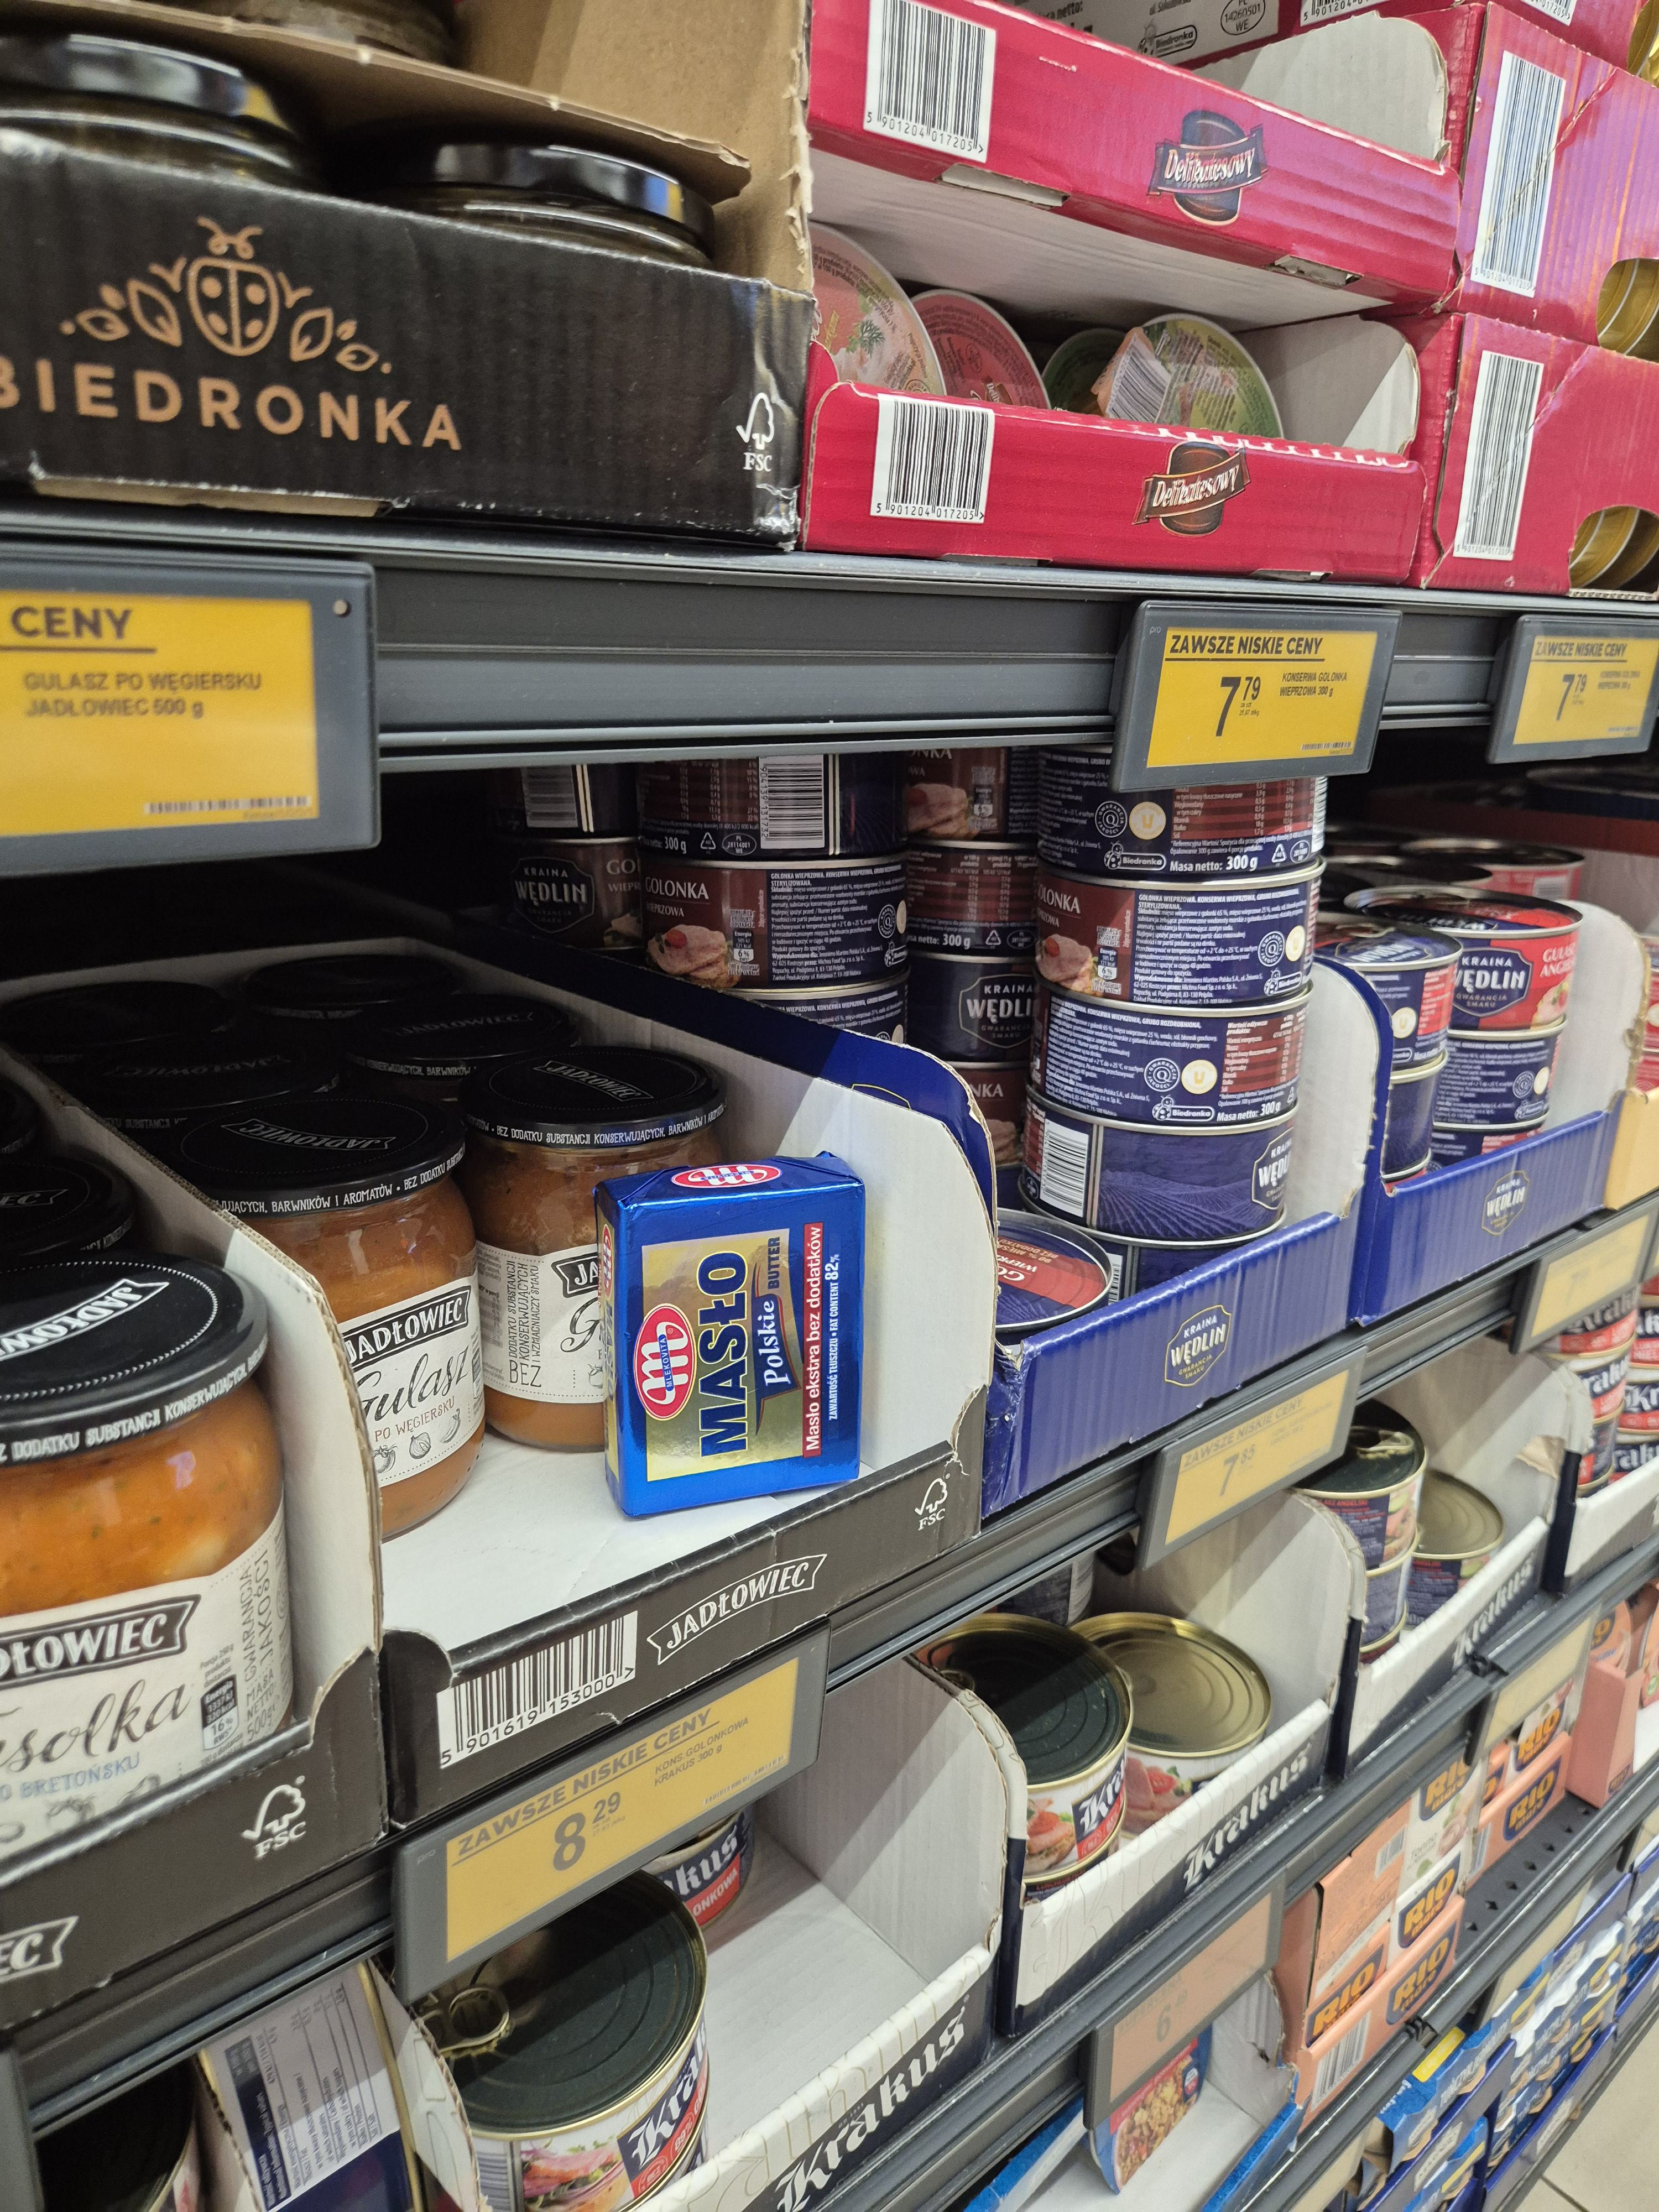Butter: (605, 1144, 885, 1507)
